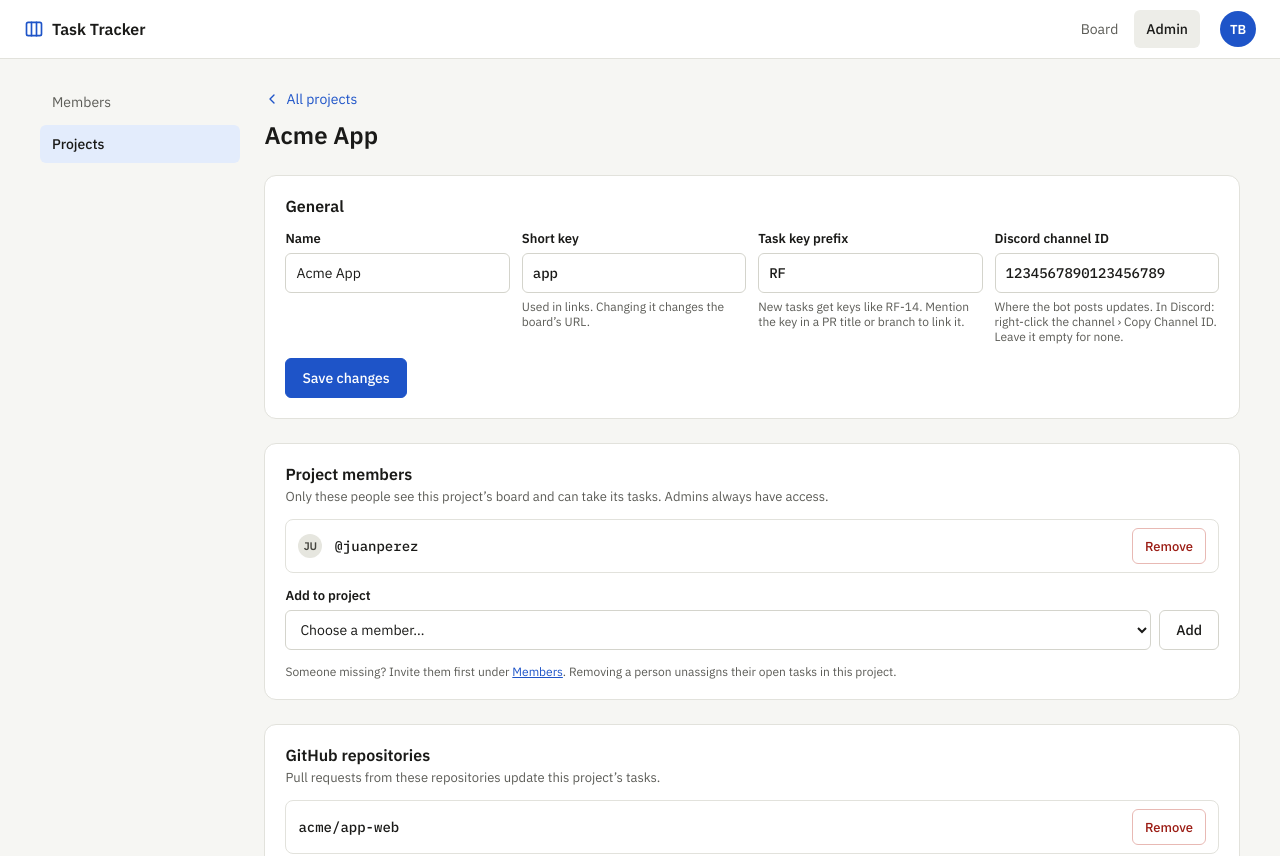
Test: Project settings › Project members › asks before removing someone, explaining their tasks get unassigned
Click the button with aria-label "Remove @juanperez from this project" at [1169, 546], box [1132,528,1206,564]
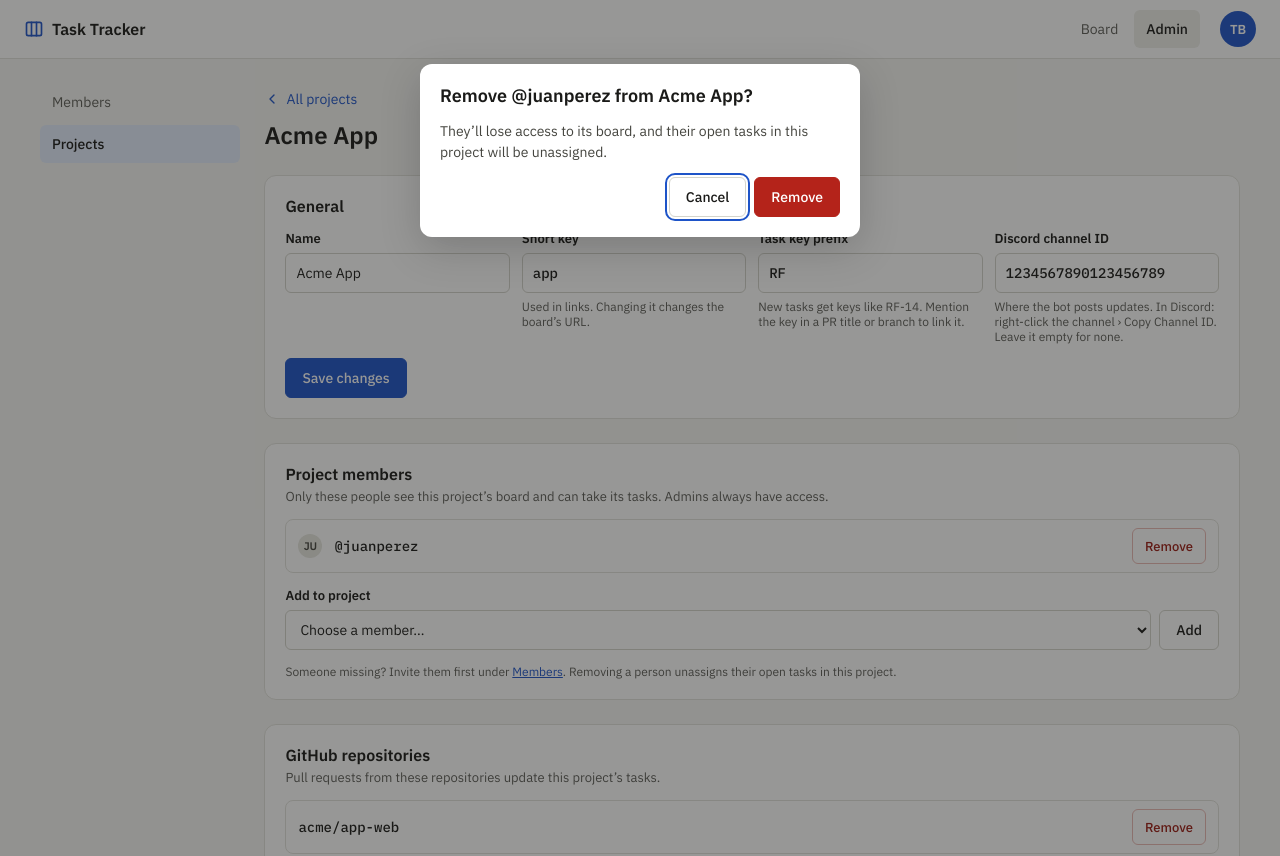
Click the button "Remove" at [797, 197], box [754,177,840,217]
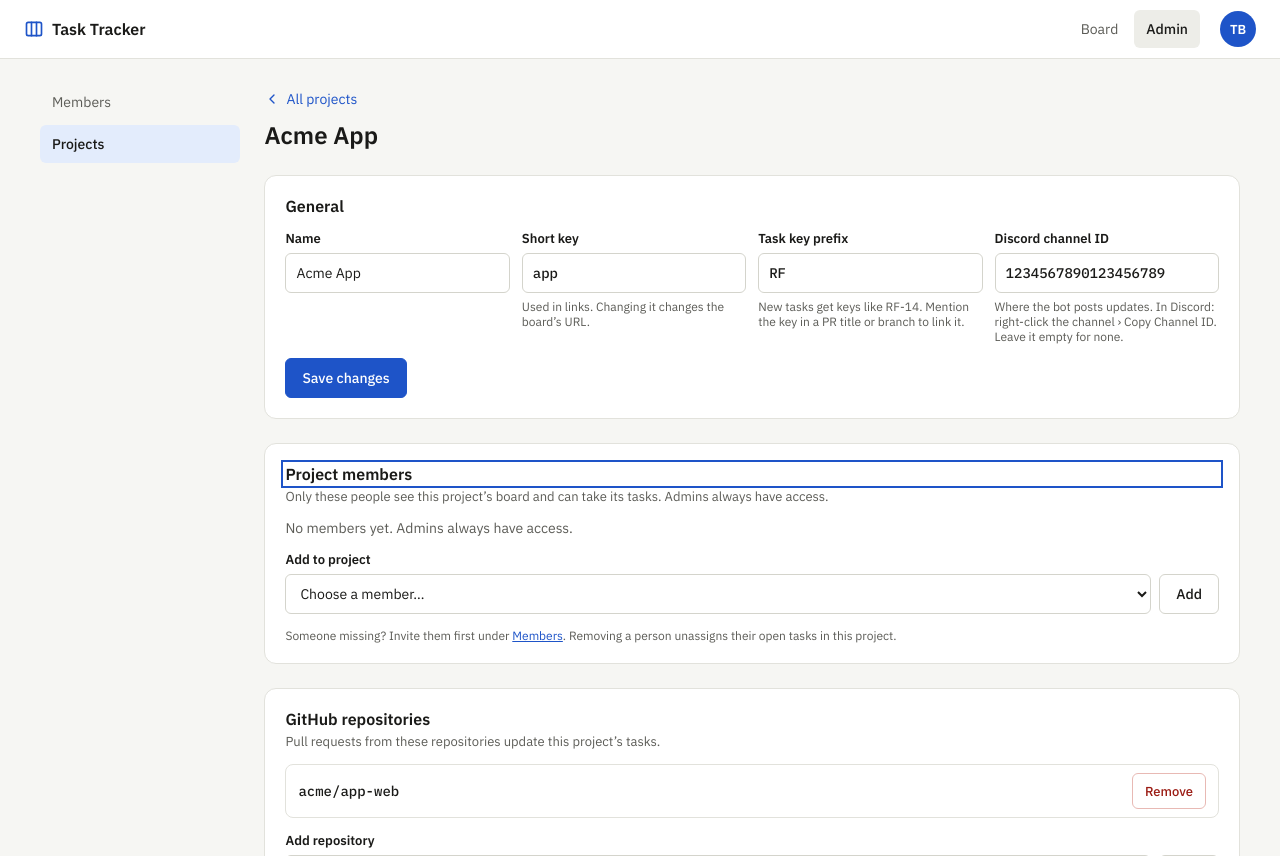
Result: the dialog is gone
Result: the text "No members yet. Admins always have access." is shown at [285,519,573,537]
